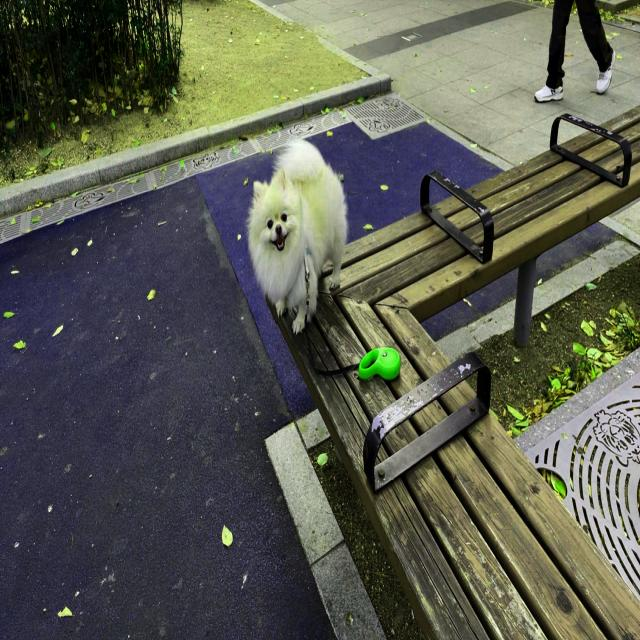Dog: (248, 140, 346, 333)
